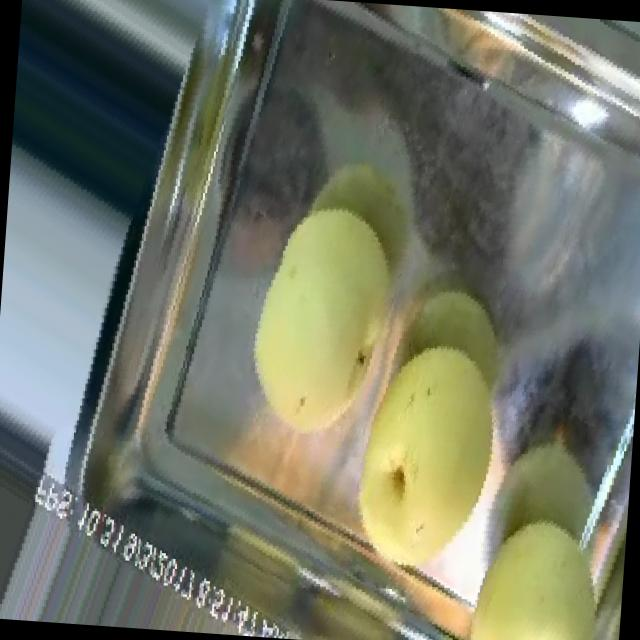Fruit: (280, 311, 556, 618), (218, 180, 441, 473), (439, 490, 626, 640)
